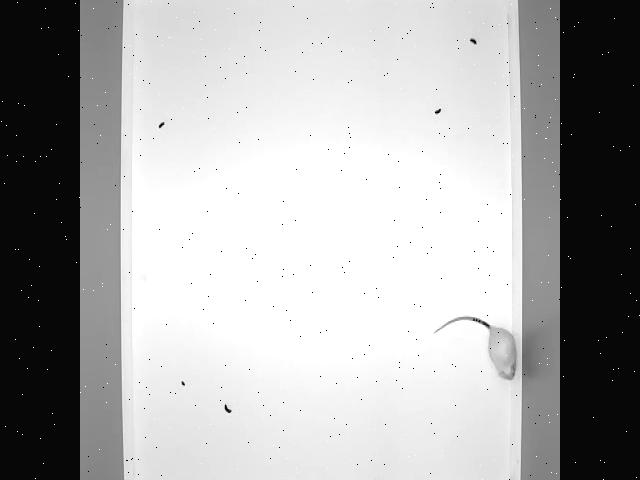Tikus: (433, 296, 518, 378)
